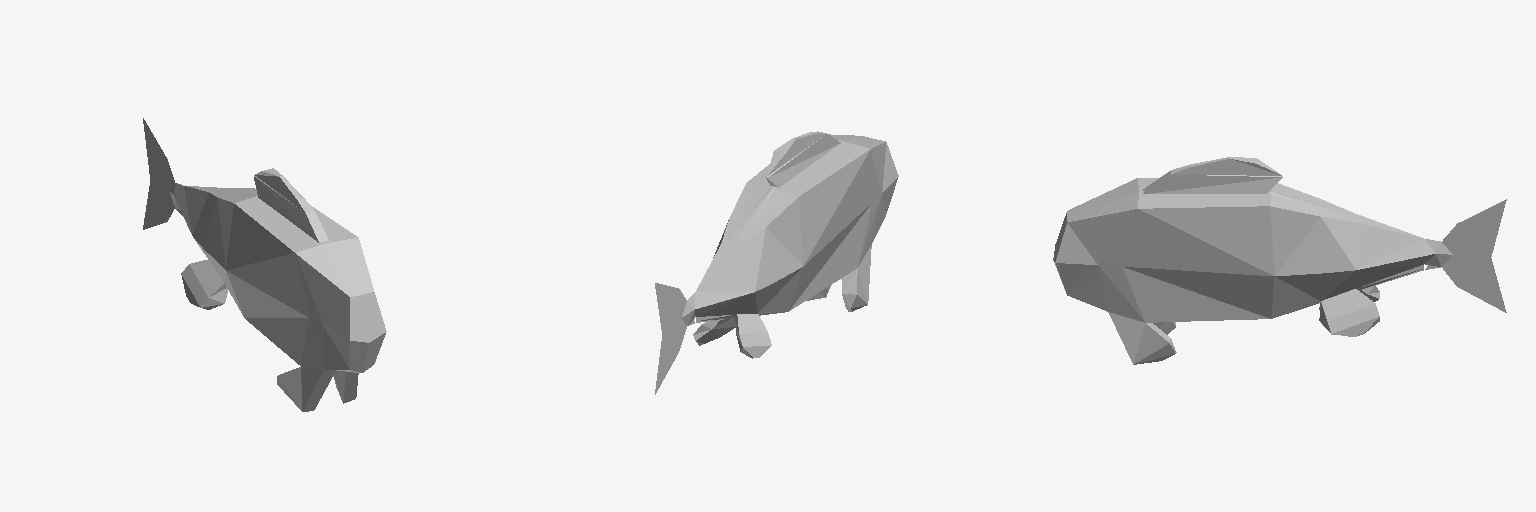
File: fish.obj
The picture shows the model from 3 angles: view 1: azimuth 30°, elevation 25°; view 2: azimuth 150°, elevation 25°; view 3: azimuth 270°, elevation 25°; orthographic projection.
Visible parts, largest first — view 1: Cube_Material; view 2: Cube_Material; view 3: Cube_Material.
Boxes of the visible parts, x1,y1,x2,y2 form: Cube_Material: [143, 118, 386, 411]; Cube_Material: [655, 131, 898, 394]; Cube_Material: [1053, 157, 1506, 364].
Bounding box in the file's own units: 1.17 × 3.28 × 6.86.